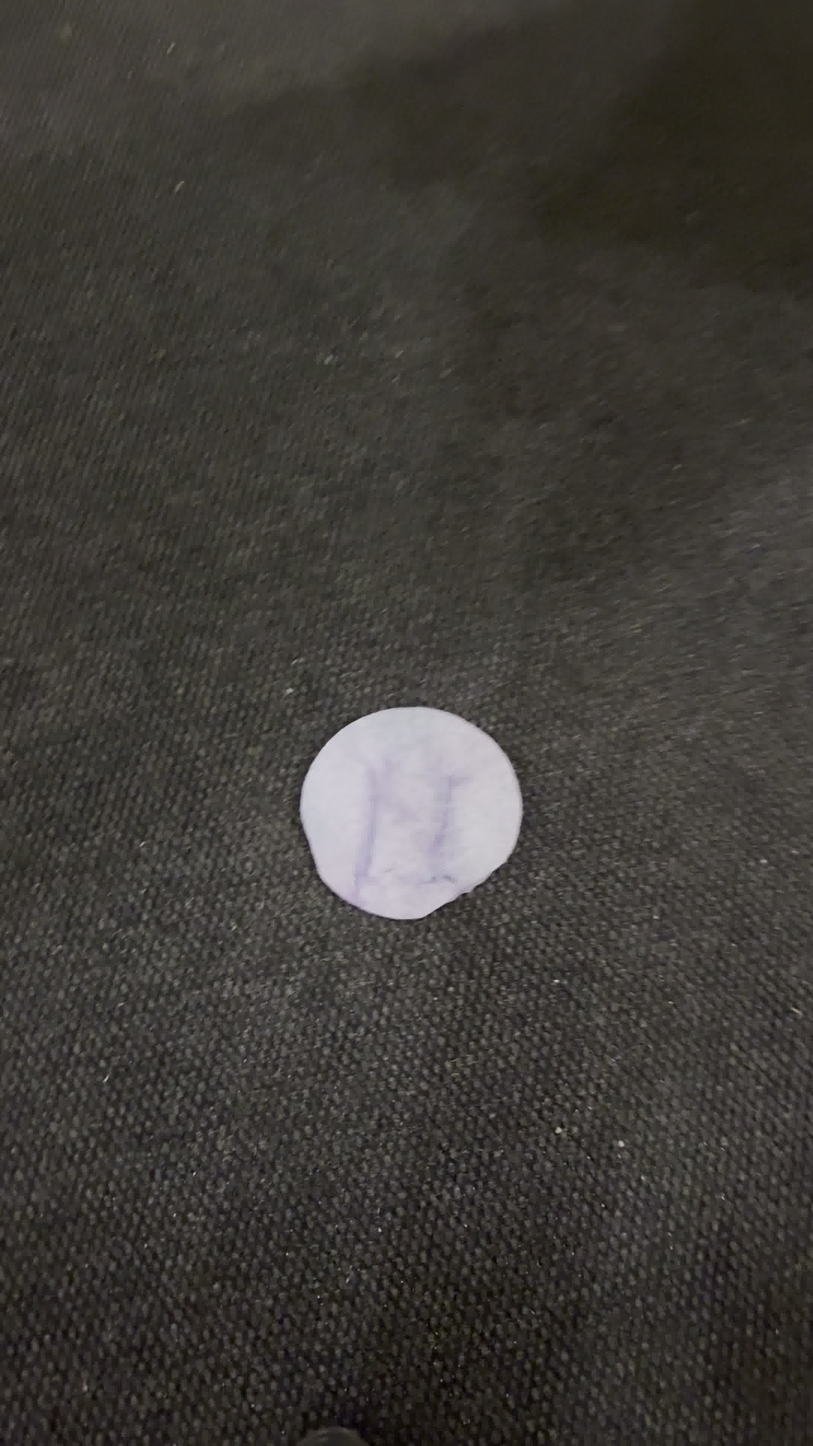Target: (297, 698, 526, 925)
